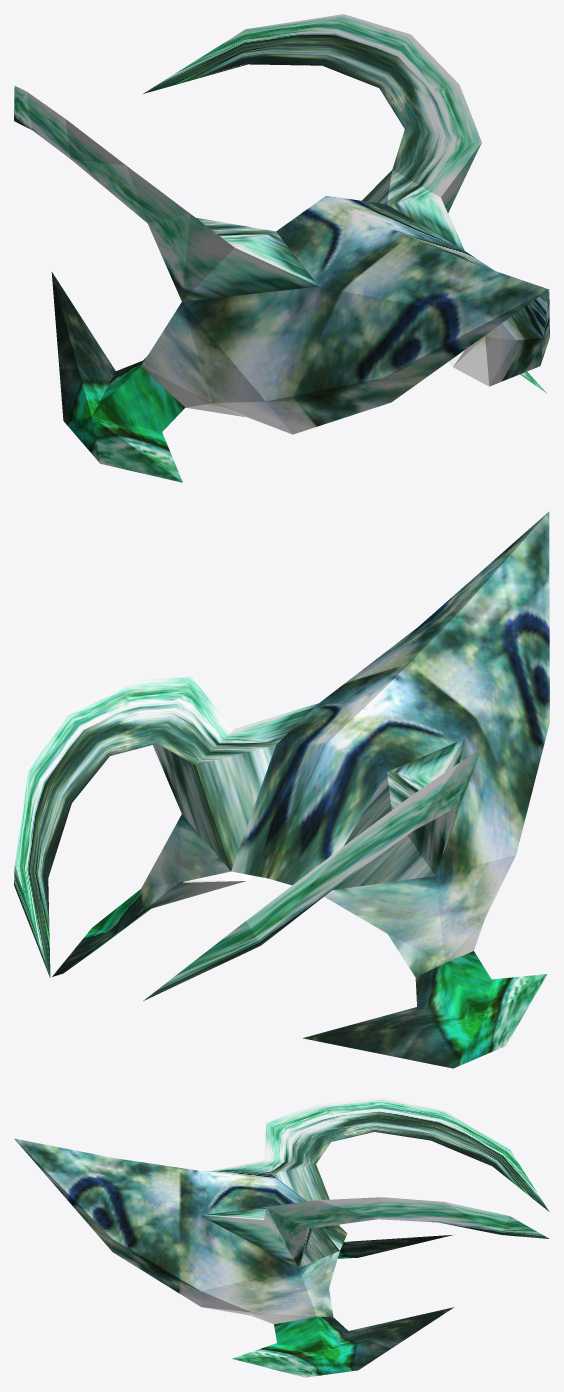
Rendered from twinblade105_1.obj.
3 views of the same model, one above another, from view 1: azimuth 30°, elevation 25°; view 2: azimuth 150°, elevation 25°; view 3: azimuth 270°, elevation 25° (orthographic). The views are drawn at different scales.
Visible parts, largest first — view 1: MDL_cwdhkn05_1r; view 2: MDL_cwdhkn05_1r; view 3: MDL_cwdhkn05_1r.
Part boxes in pixels (left/top/right/bottom): MDL_cwdhkn05_1r: left=14, top=14, right=549, bottom=482; MDL_cwdhkn05_1r: left=14, top=511, right=549, bottom=1068; MDL_cwdhkn05_1r: left=14, top=1097, right=549, bottom=1377.
Bounding box in the file's own units: 0.32 × 0.2299 × 0.6188.
